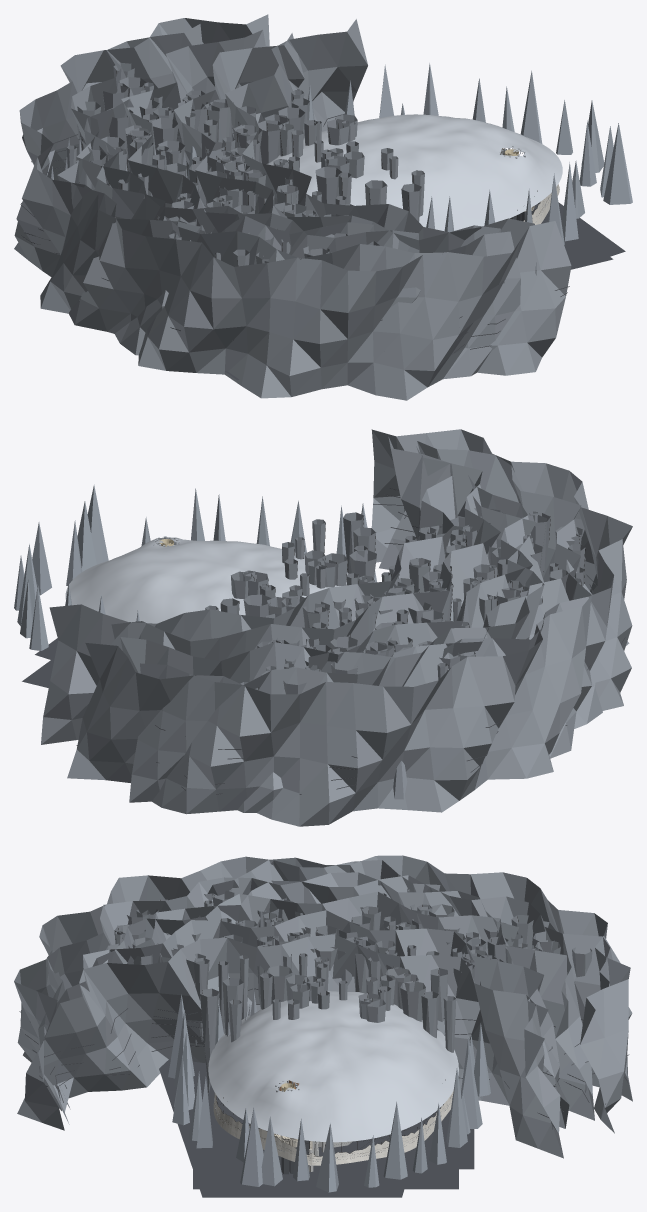
File: Level_Ch1.fbx
3 renders of one model, top to bottom at view 1: azimuth 30°, elevation 25°; view 2: azimuth 150°, elevation 25°; view 3: azimuth 270°, elevation 25°, orthographic. The views are drawn at different scales.
Visible parts, largest first — view 1: Vista_hideout, Vista_field, Vista_fall, Ceiling, Vista_plaza, Vista_alley, Vista_gate, Vista_cart, Backdrop; view 2: Vista_field, Vista_fall, Vista_hideout, Vista_cart, Vista_gate, Ceiling, Vista_plaza, Vista_alley, Backdrop; view 3: Vista_fall, Ceiling, Vista_plaza, Vista_field, Vista_gate, Backdrop, Vista_hideout, Vista_alley, Vista_cart, Walls_Bound.
Part boxes in pixels (x1=…): Vista_hideout: x1=57, y1=140, x2=571, y2=400; Vista_field: x1=14, y1=14, x2=269, y2=355; Vista_fall: x1=225, y1=19, x2=625, y2=380; Ceiling: x1=261, y1=114, x2=562, y2=231; Vista_plaza: x1=121, y1=30, x2=613, y2=269; Vista_alley: x1=84, y1=87, x2=520, y2=379; Vista_gate: x1=174, y1=33, x2=504, y2=283; Vista_cart: x1=71, y1=24, x2=374, y2=250; Backdrop: x1=187, y1=63, x2=632, y2=244; Vista_field: x1=67, y1=560, x2=602, y2=826; Vista_fall: x1=35, y1=437, x2=455, y2=744; Vista_hideout: x1=371, y1=429, x2=632, y2=758; Vista_cart: x1=129, y1=496, x2=544, y2=812; Vista_gate: x1=111, y1=446, x2=500, y2=660; Ceiling: x1=65, y1=536, x2=348, y2=623; Vista_plaza: x1=22, y1=475, x2=532, y2=687; Vista_alley: x1=308, y1=441, x2=585, y2=686; Backdrop: x1=14, y1=484, x2=376, y2=650; Vista_fall: x1=44, y1=934, x2=563, y2=1197; Ceiling: x1=208, y1=991, x2=458, y2=1142; Vista_plaza: x1=92, y1=891, x2=594, y2=1189; Vista_field: x1=207, y1=855, x2=632, y2=1148; Vista_gate: x1=44, y1=910, x2=569, y2=1128; Backdrop: x1=168, y1=973, x2=490, y2=1192; Vista_hideout: x1=14, y1=856, x2=440, y2=1130; Vista_alley: x1=38, y1=872, x2=518, y2=1165; Vista_cart: x1=127, y1=875, x2=632, y2=1169; Walls_Bound: x1=213, y1=1079, x2=453, y2=1165.
Size of the model in its own units: 312 by 70 by 326.
